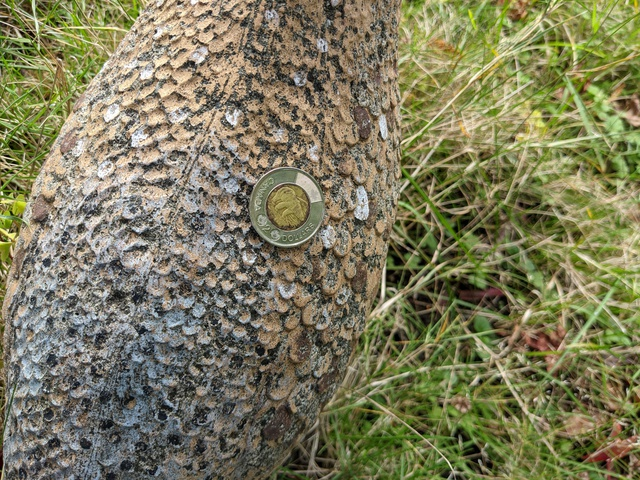twonie: (244, 169, 326, 248)
